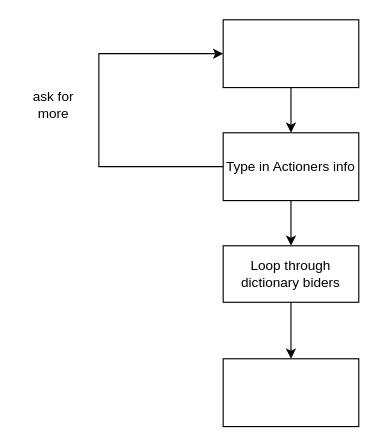
The diagram is 379 pixels wide and 446 high, and some of its shapes have lost their labels. The shapes that lost their labels are listed below. From the top down, each one's box as (x1, y1, x2, y2) in pixels, then its label:
(222, 19, 359, 88): Ask for Actioners info
(222, 358, 359, 427): Select bigget bidder
